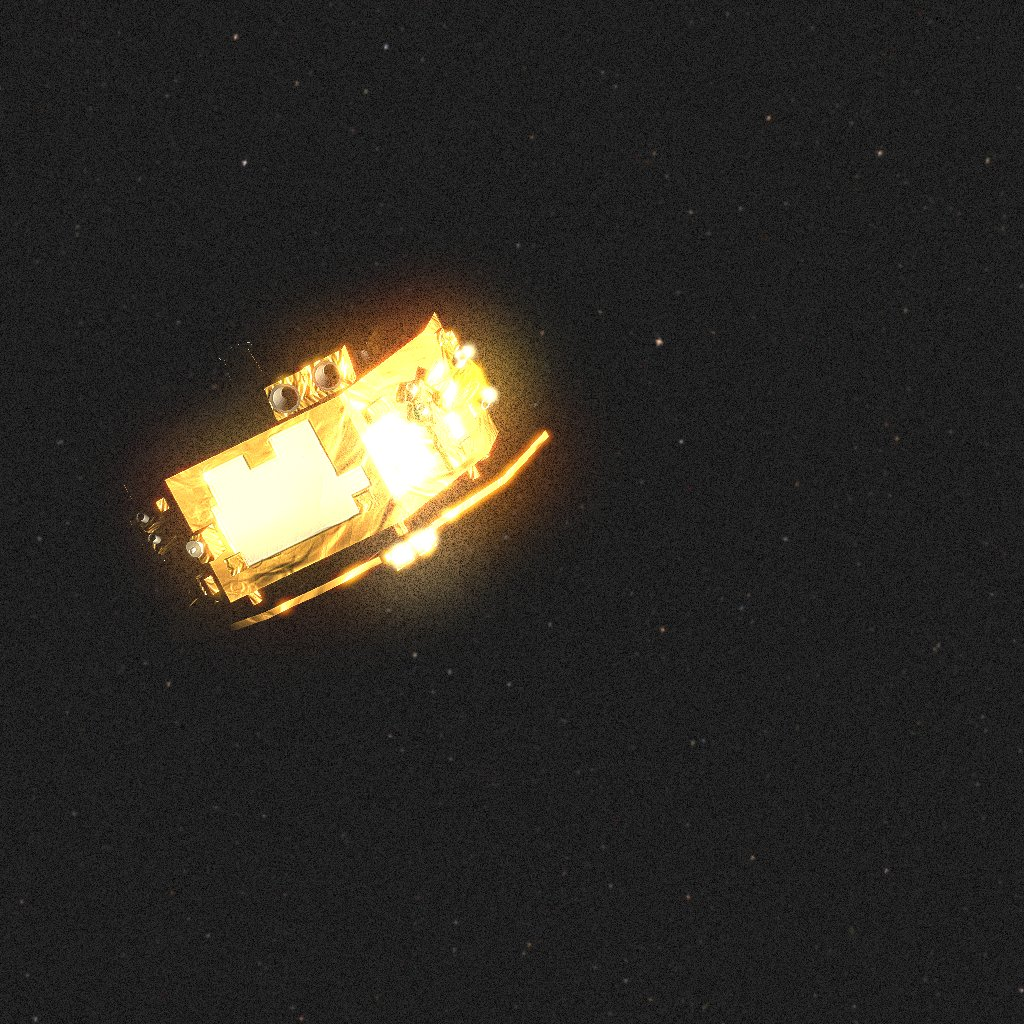lisa_pathfinder: (123, 312, 549, 643)
